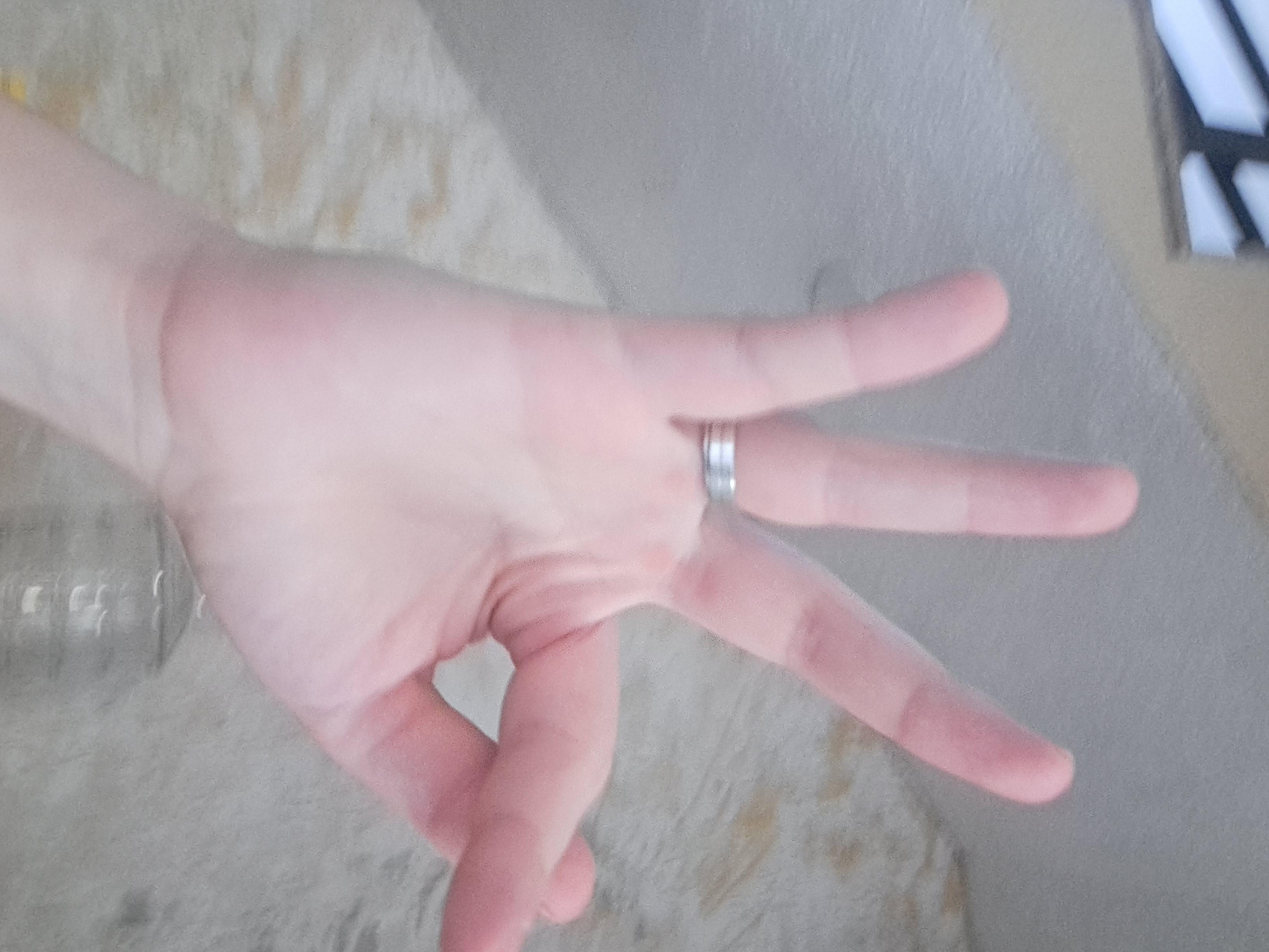F: (321, 96, 1269, 814)
